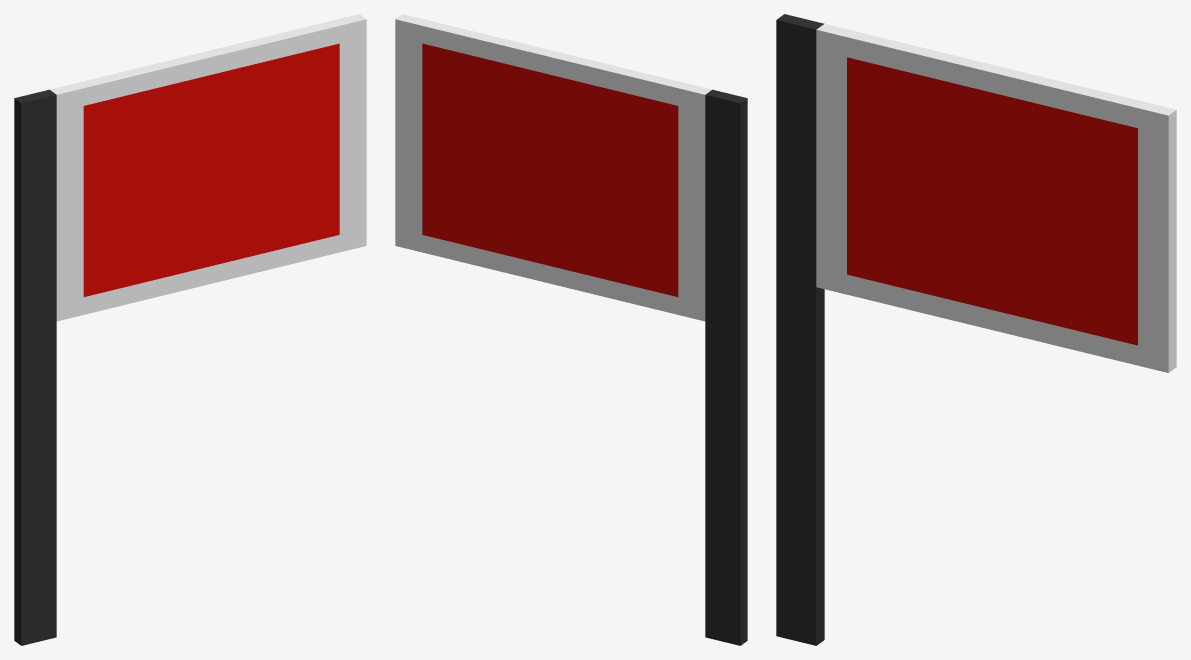
The model's file is red flag.fbx.
3 views of the same model, side by side, from view 1: azimuth 30°, elevation 25°; view 2: azimuth 150°, elevation 25°; view 3: azimuth 330°, elevation 25° (orthographic). The views are drawn at different scales.
Parts seen in each view (by area): view 1: red flag; view 2: red flag; view 3: red flag.
Part boxes in pixels (<box>): red flag: <box>14,14,366,645</box>; red flag: <box>395,14,747,645</box>; red flag: <box>776,14,1176,645</box>.
Size of the model in its own units: 147 by 221 by 5.28.
